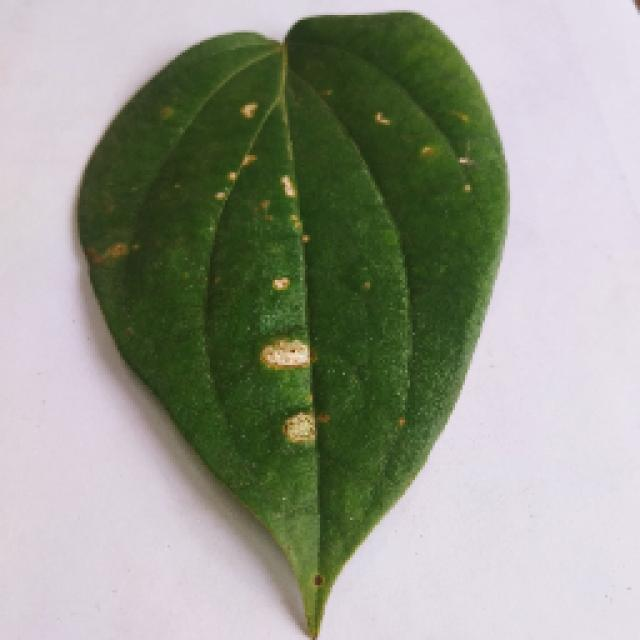pollu-disease: (32, 22, 610, 638)
